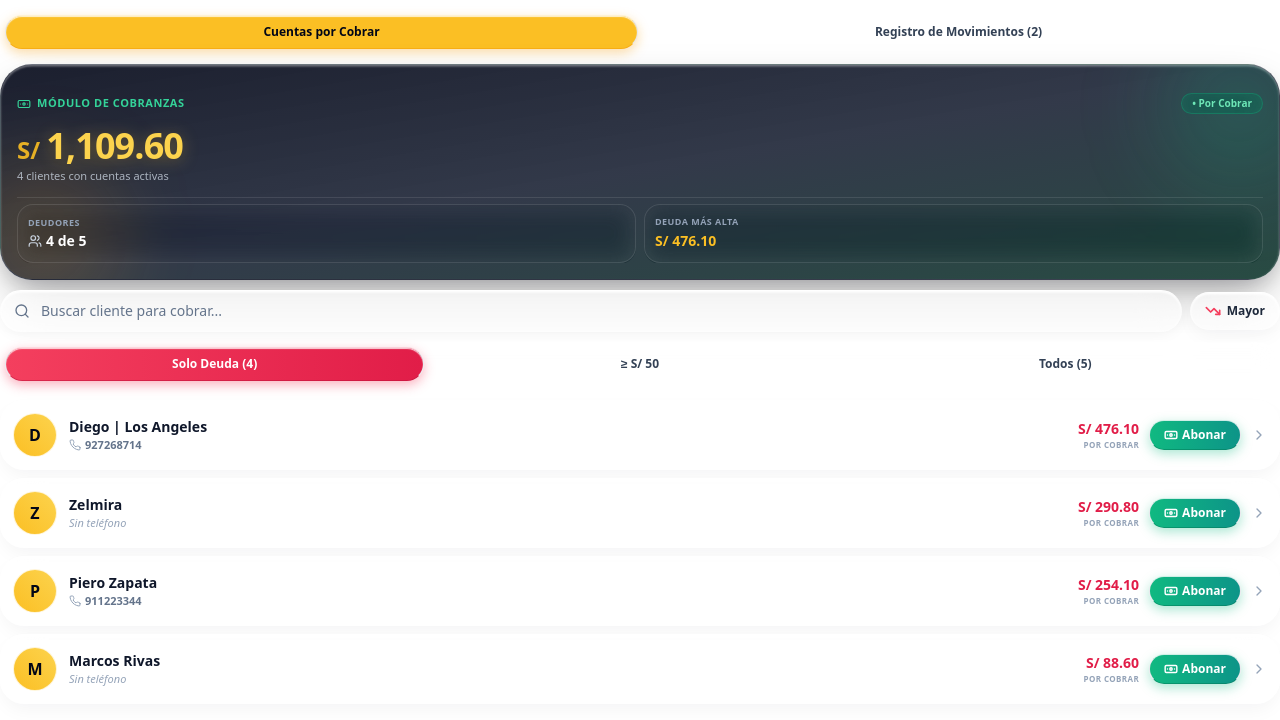
Test: HistoryPage / Cobros Component (Strict TDD) › Modal Actions › opens CustomerDetailModal when clicking on a customer card
Expected: the text "Diego | Los Angeles" is shown, left=69, top=417, right=207, bottom=437
Click the text "Diego | Los Angeles" at (640, 435), box left=0, top=400, right=1279, bottom=470
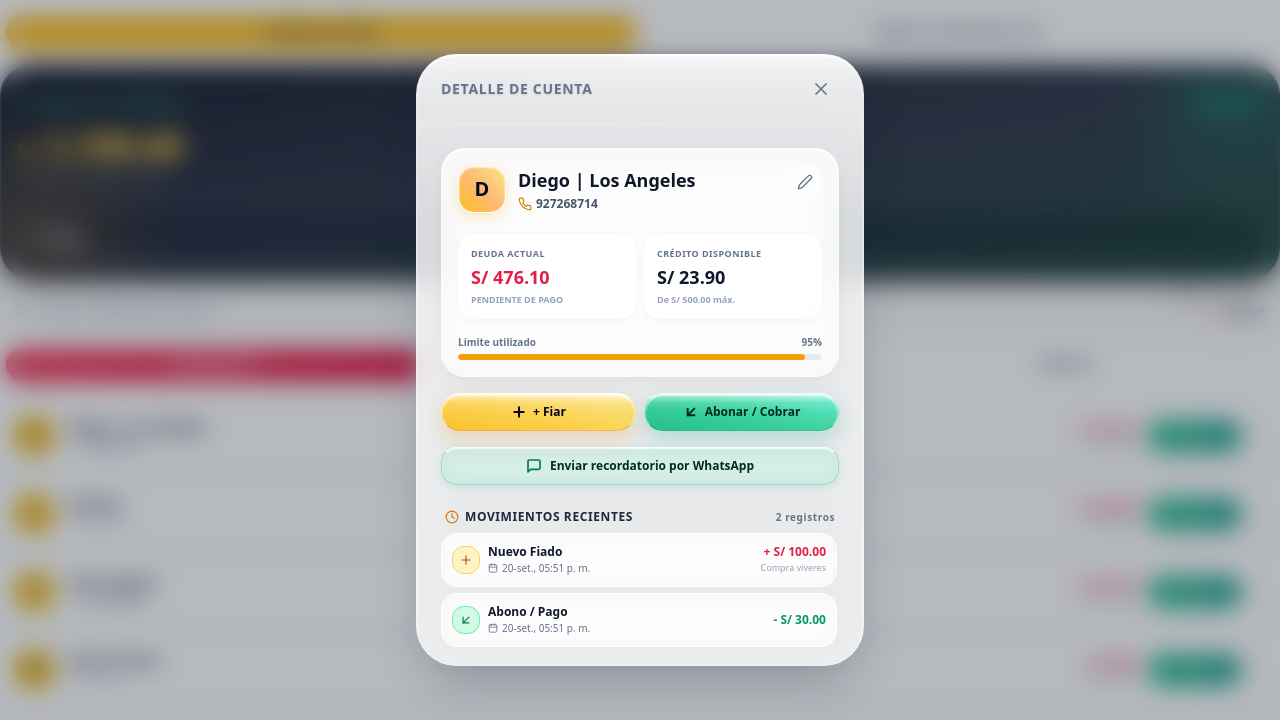
Expected: the dialog is shown, left=416, top=54, right=864, bottom=666
Expected: the text "Detalle de Cuenta" is shown, left=441, top=79, right=592, bottom=99
